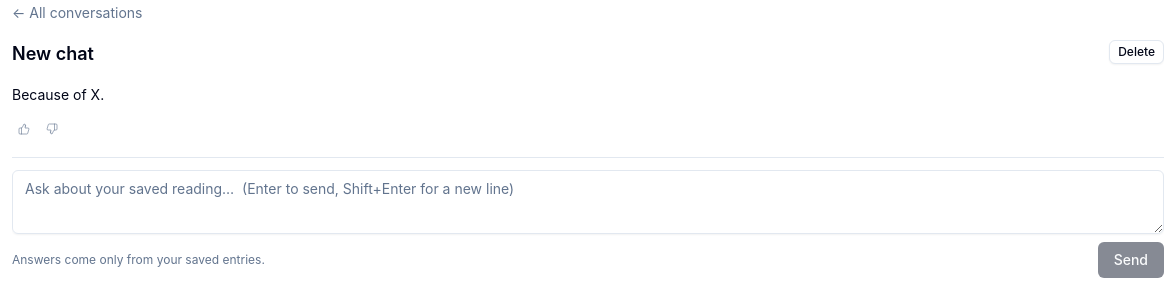
Test case: chat feedback seeded from the log › falls back to unvoted, silently, when the log cannot be read
Check: the text "Noted as helpful" is not shown
Click the button named "Mark this answer helpful" at coordinates (24, 129), box [12,117,36,141]
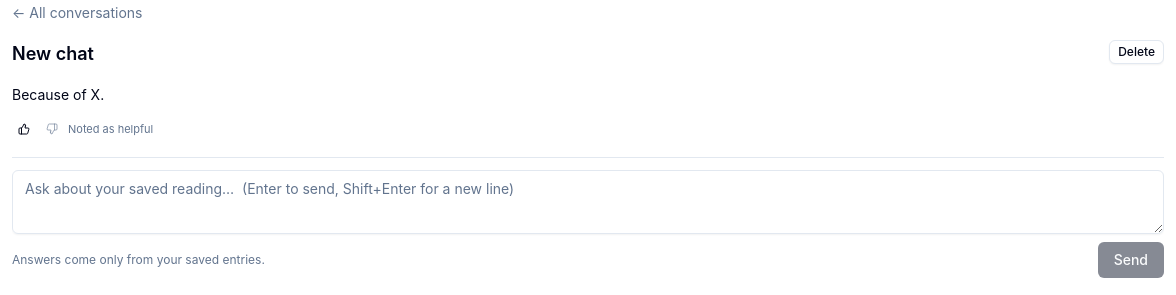
Check: the text "Noted as helpful" is shown, box [68,120,153,137]
